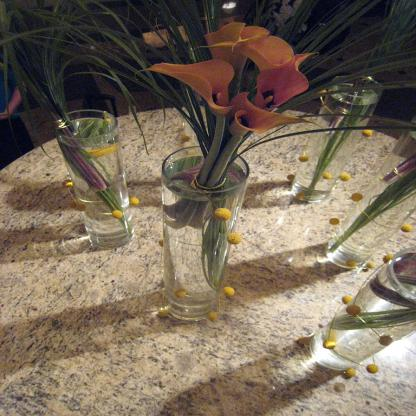vase: (160, 144, 252, 320), (306, 245, 416, 370), (326, 128, 416, 270), (289, 72, 384, 202), (62, 108, 137, 250)
